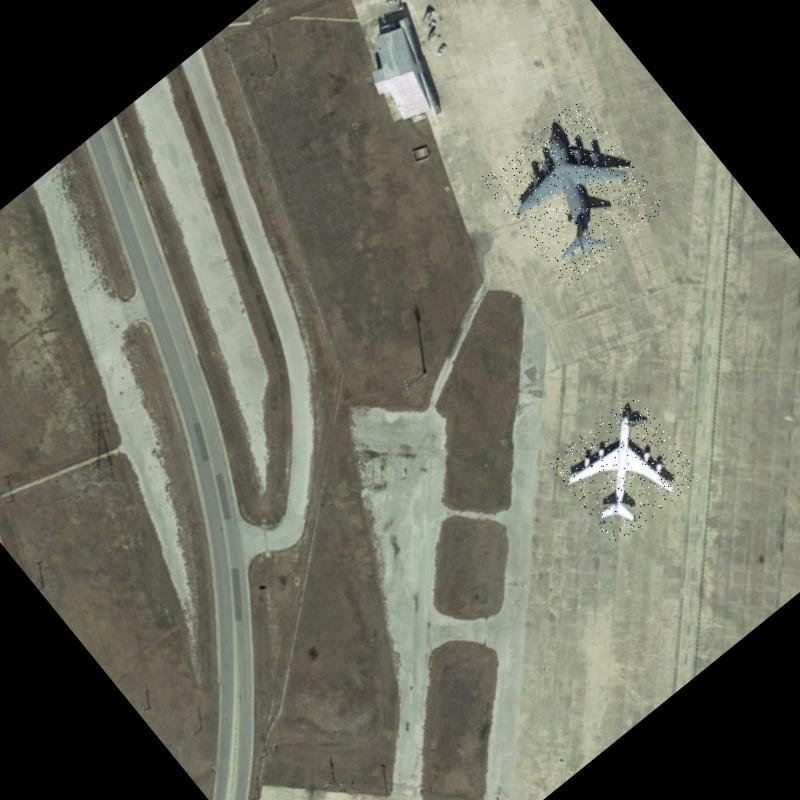A11: (546, 391, 702, 547)
A3: (478, 97, 668, 288)
